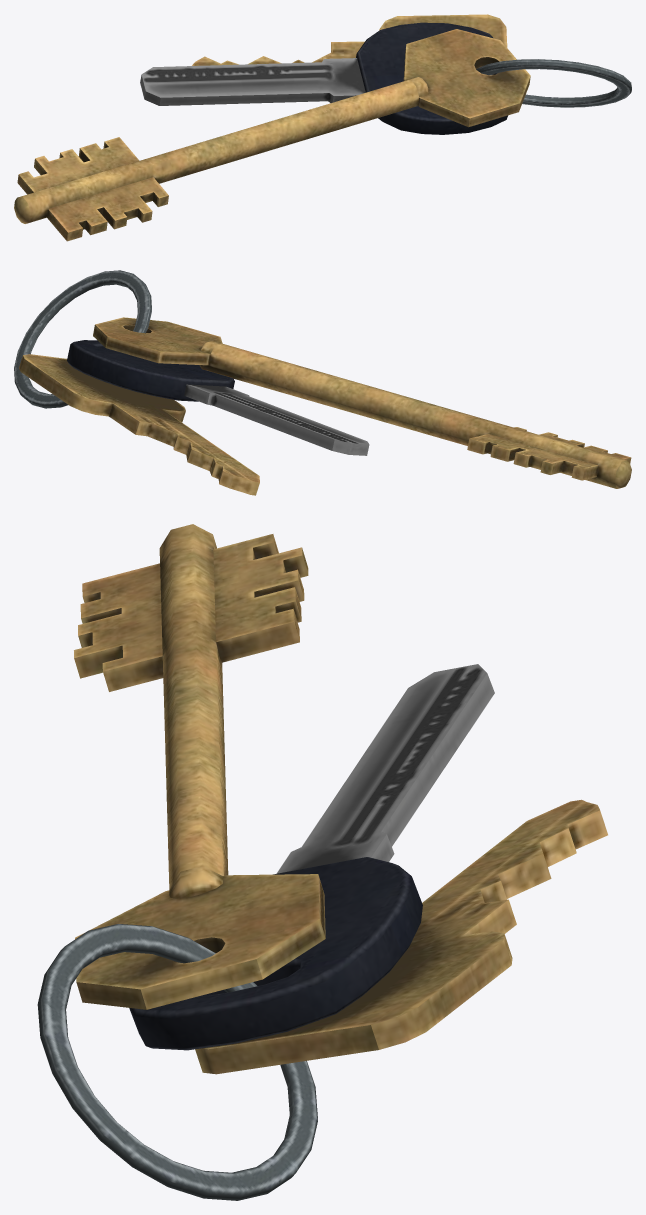
File: keys.glb
The picture shows the model from 3 angles, top to bottom: view 1: azimuth 30°, elevation 25°; view 2: azimuth 150°, elevation 25°; view 3: azimuth 270°, elevation 25°; orthographic projection. The views are drawn at different scales.
Visible parts, largest first — view 1: keys; view 2: keys; view 3: keys.
Part boxes in pixels (<box>): keys: <box>14,14,631,241</box>; keys: <box>14,270,631,495</box>; keys: <box>37,524,607,1200</box>.
Bounding box in the file's own units: 0.085 × 0.0132 × 0.0352.
4 materials, 4 textured.
